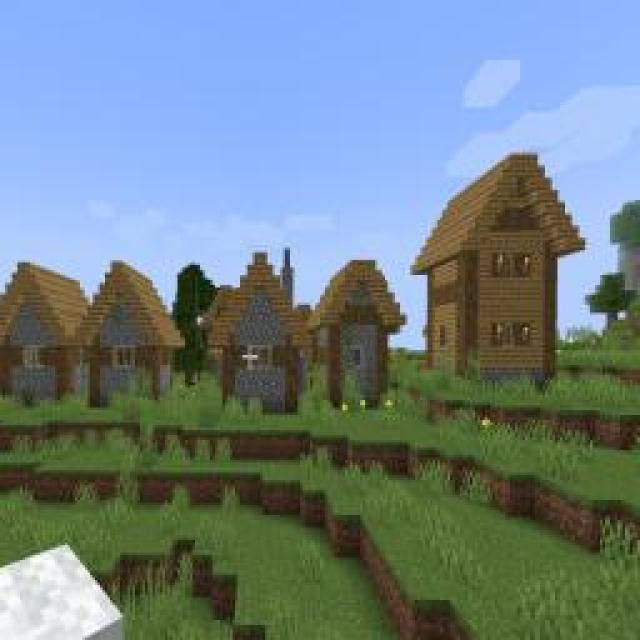Villager: (409, 148, 589, 380), (208, 245, 310, 413), (78, 255, 188, 405), (308, 250, 410, 408), (2, 257, 92, 405)
